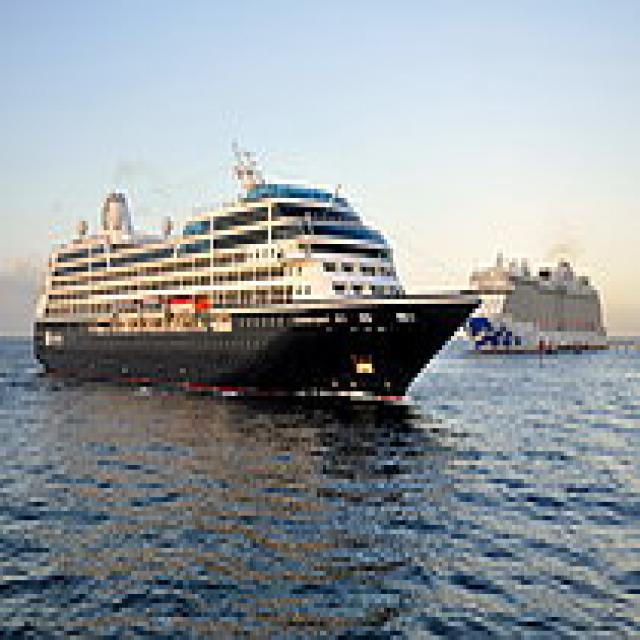Ship: (22, 125, 507, 425)
